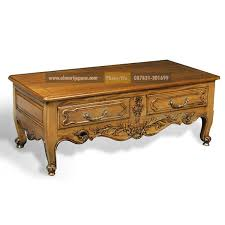Carving Table: (9, 61, 219, 177)
